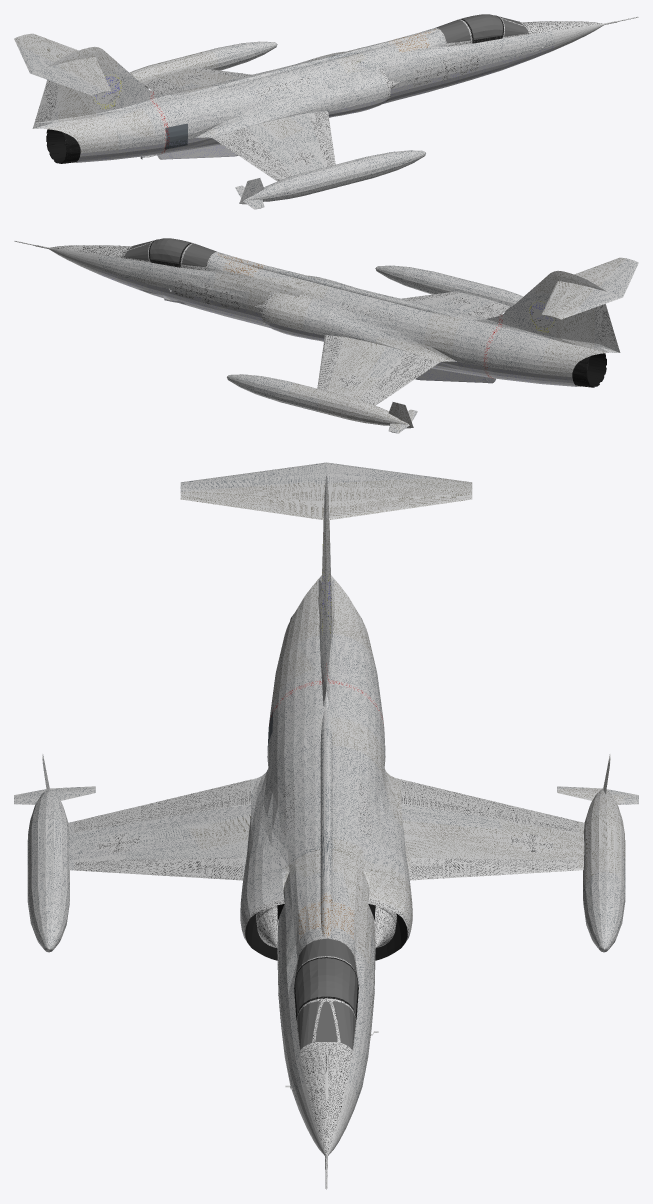
3 renders of one model, top to bottom at view 1: azimuth 30°, elevation 25°; view 2: azimuth 150°, elevation 25°; view 3: azimuth 270°, elevation 25°, orthographic. The views are drawn at different scales.
Parts seen in each view (by area): view 1: mesh2_mesh2-geometry, mesh172_mesh172-geometry, mesh88_mesh88-geometry, mesh171_mesh171-geometry, mesh85_mesh85-geometry, mesh87_mesh87-geometry, mesh103_mesh103-geometry, mesh89_mesh89-geometry, mesh83_mesh83-geometry, mesh1_mesh1-geometry, mesh93_mesh93-geometry, mesh147_mesh147-geometry (+6 smaller); view 2: mesh2_mesh2-geometry, mesh172_mesh172-geometry, mesh87_mesh87-geometry, mesh171_mesh171-geometry, mesh83_mesh83-geometry, mesh88_mesh88-geometry, mesh103_mesh103-geometry, mesh90_mesh90-geometry, mesh85_mesh85-geometry, mesh1_mesh1-geometry, mesh94_mesh94-geometry, mesh147_mesh147-geometry (+6 smaller); view 3: mesh2_mesh2-geometry, mesh171_mesh171-geometry, mesh85_mesh85-geometry, mesh83_mesh83-geometry, mesh87_mesh87-geometry, mesh88_mesh88-geometry, mesh1_mesh1-geometry, mesh94_mesh94-geometry, mesh93_mesh93-geometry, mesh103_mesh103-geometry, mesh147_mesh147-geometry, mesh172_mesh172-geometry (+4 smaller).
Part boxes in pixels (bbox=[...]): mesh2_mesh2-geometry: bbox=[44, 21, 554, 162]; mesh172_mesh172-geometry: bbox=[32, 46, 179, 128]; mesh88_mesh88-geometry: bbox=[243, 150, 425, 201]; mesh171_mesh171-geometry: bbox=[14, 33, 111, 95]; mesh85_mesh85-geometry: bbox=[246, 111, 327, 175]; mesh87_mesh87-geometry: bbox=[129, 41, 277, 88]; mesh103_mesh103-geometry: bbox=[181, 29, 437, 95]; mesh89_mesh89-geometry: bbox=[213, 127, 274, 165]; mesh83_mesh83-geometry: bbox=[143, 67, 240, 89]; mesh1_mesh1-geometry: bbox=[545, 21, 603, 51]; mesh93_mesh93-geometry: bbox=[308, 111, 335, 166]; mesh147_mesh147-geometry: bbox=[461, 14, 502, 39]; mesh2_mesh2-geometry: bbox=[98, 245, 608, 386]; mesh172_mesh172-geometry: bbox=[473, 270, 620, 352]; mesh87_mesh87-geometry: bbox=[227, 374, 409, 425]; mesh171_mesh171-geometry: bbox=[541, 257, 638, 319]; mesh83_mesh83-geometry: bbox=[325, 335, 406, 399]; mesh88_mesh88-geometry: bbox=[375, 265, 523, 312]; mesh103_mesh103-geometry: bbox=[215, 253, 471, 319]; mesh90_mesh90-geometry: bbox=[378, 351, 439, 389]; mesh85_mesh85-geometry: bbox=[412, 291, 509, 313]; mesh1_mesh1-geometry: bbox=[49, 245, 107, 275]; mesh94_mesh94-geometry: bbox=[317, 335, 344, 390]; mesh147_mesh147-geometry: bbox=[150, 238, 191, 263]; mesh2_mesh2-geometry: bbox=[240, 579, 412, 1105]; mesh171_mesh171-geometry: bbox=[180, 462, 472, 520]; mesh85_mesh85-geometry: bbox=[68, 804, 251, 879]; mesh83_mesh83-geometry: bbox=[401, 804, 584, 879]; mesh87_mesh87-geometry: bbox=[583, 788, 625, 952]; mesh88_mesh88-geometry: bbox=[27, 788, 69, 952]; mesh1_mesh1-geometry: bbox=[296, 1073, 356, 1155]; mesh94_mesh94-geometry: bbox=[410, 857, 578, 880]; mesh93_mesh93-geometry: bbox=[74, 857, 242, 880]; mesh103_mesh103-geometry: bbox=[320, 709, 332, 937]; mesh147_mesh147-geometry: bbox=[295, 958, 357, 1014]; mesh172_mesh172-geometry: bbox=[318, 484, 334, 707].
Bounding box in the file's own units: 0.8847 × 0.2004 × 0.421.
Materials: 26 (1 with a texture image).
